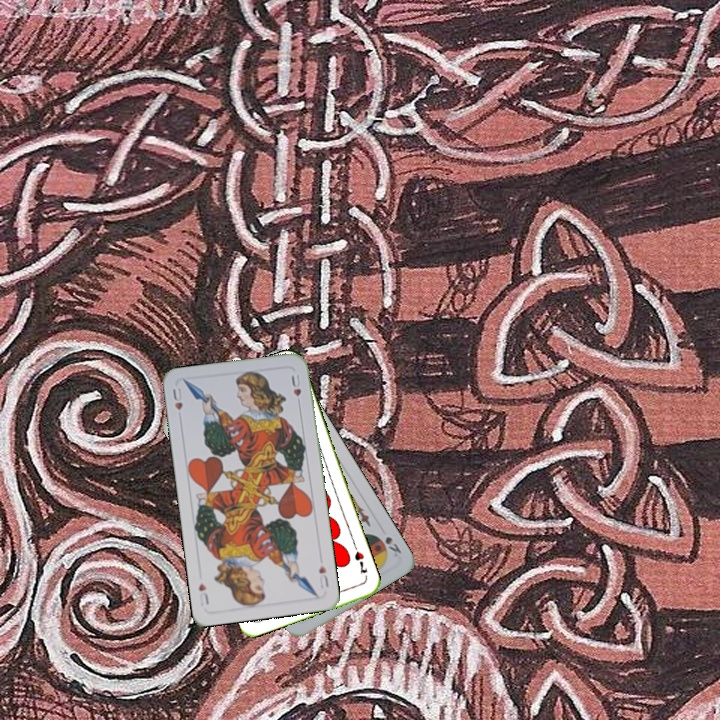H7: (350, 547, 370, 576)
HU: (169, 384, 186, 413), (315, 561, 331, 591)
SK: (381, 532, 404, 559)
